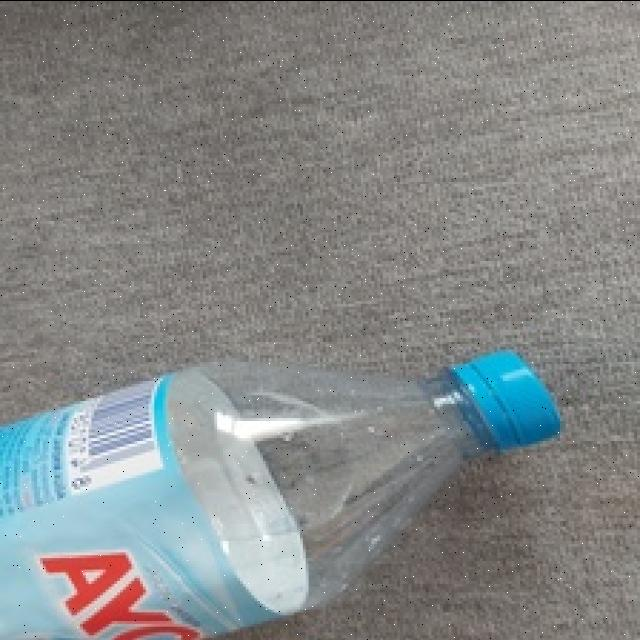plastic: (0, 313, 570, 640)
